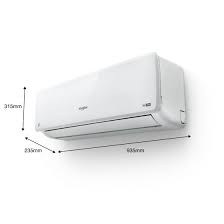ac: (32, 52, 192, 148)
